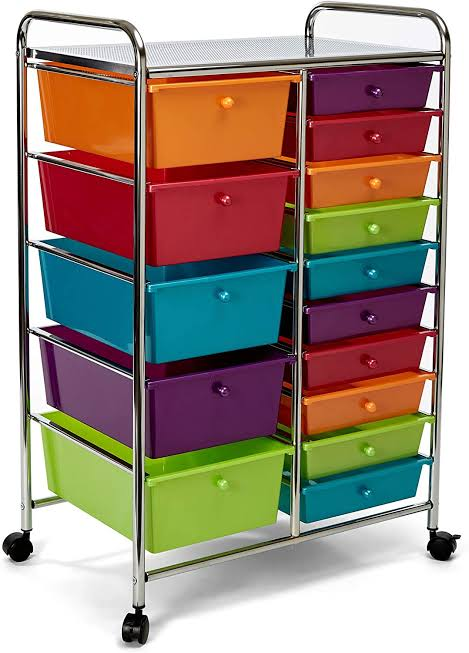Carts: (12, 1, 459, 653)
